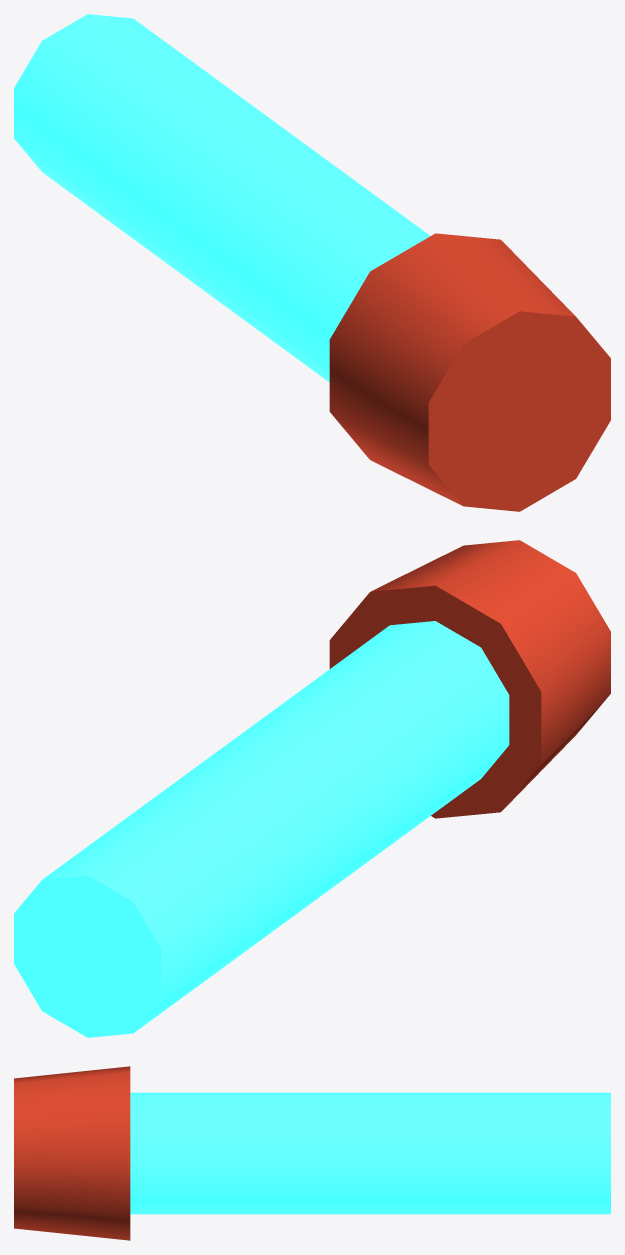
3 renders of one model, top to bottom at view 1: azimuth 30°, elevation 25°; view 2: azimuth 150°, elevation 25°; view 3: azimuth 270°, elevation 25°, orthographic. The views are drawn at different scales.
Parts seen in each view (by area): view 1: dart; view 2: dart; view 3: dart.
Boxes of the visible parts, <box> form: dart: <box>14,14,610,511</box>; dart: <box>14,540,610,1037</box>; dart: <box>14,1066,610,1240</box>.
Bounding box in the file's own units: 0.0232 × 0.0244 × 0.082.
